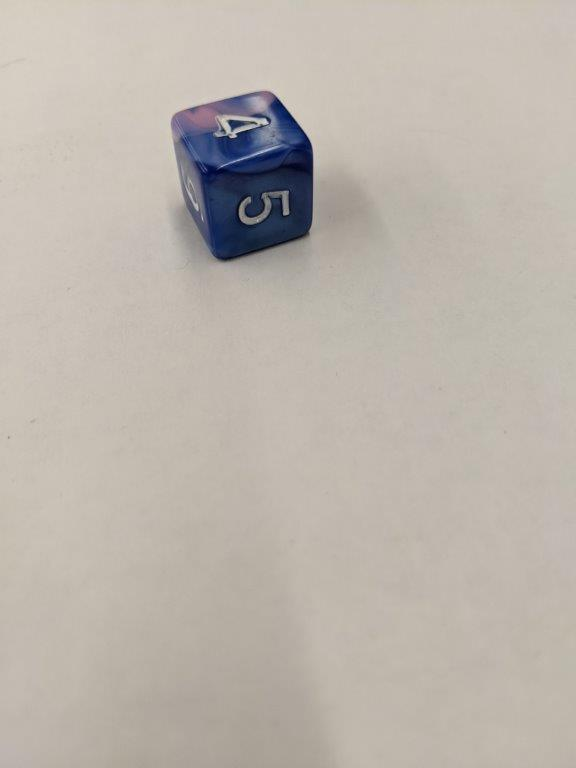d6-4: (169, 87, 315, 267)
